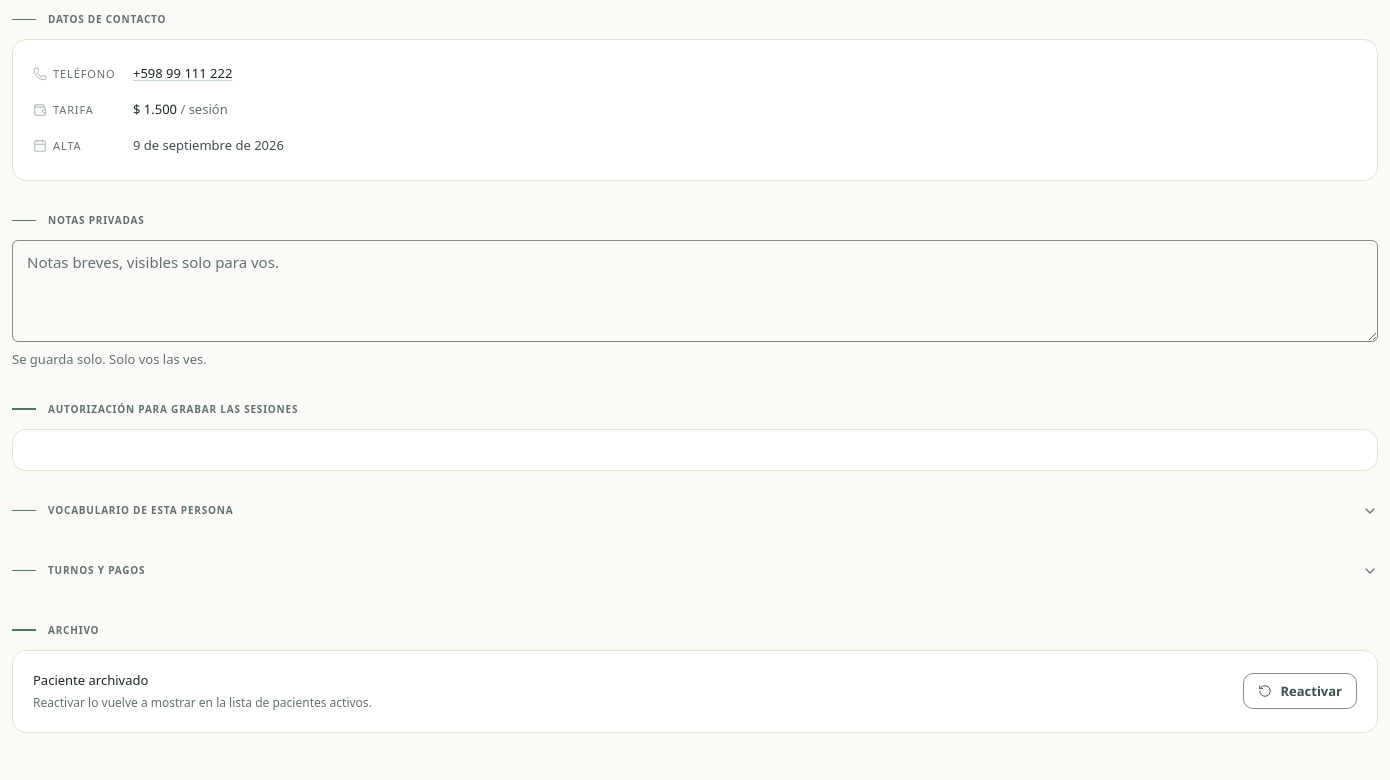
Test: los avisos distinguen un rechazo de una operación confirmada › reactivar desde la ficha: éxito=false
Click the button "Reactivar".
click(1300, 691)  # box x1=1243 y1=673 x2=1357 y2=709
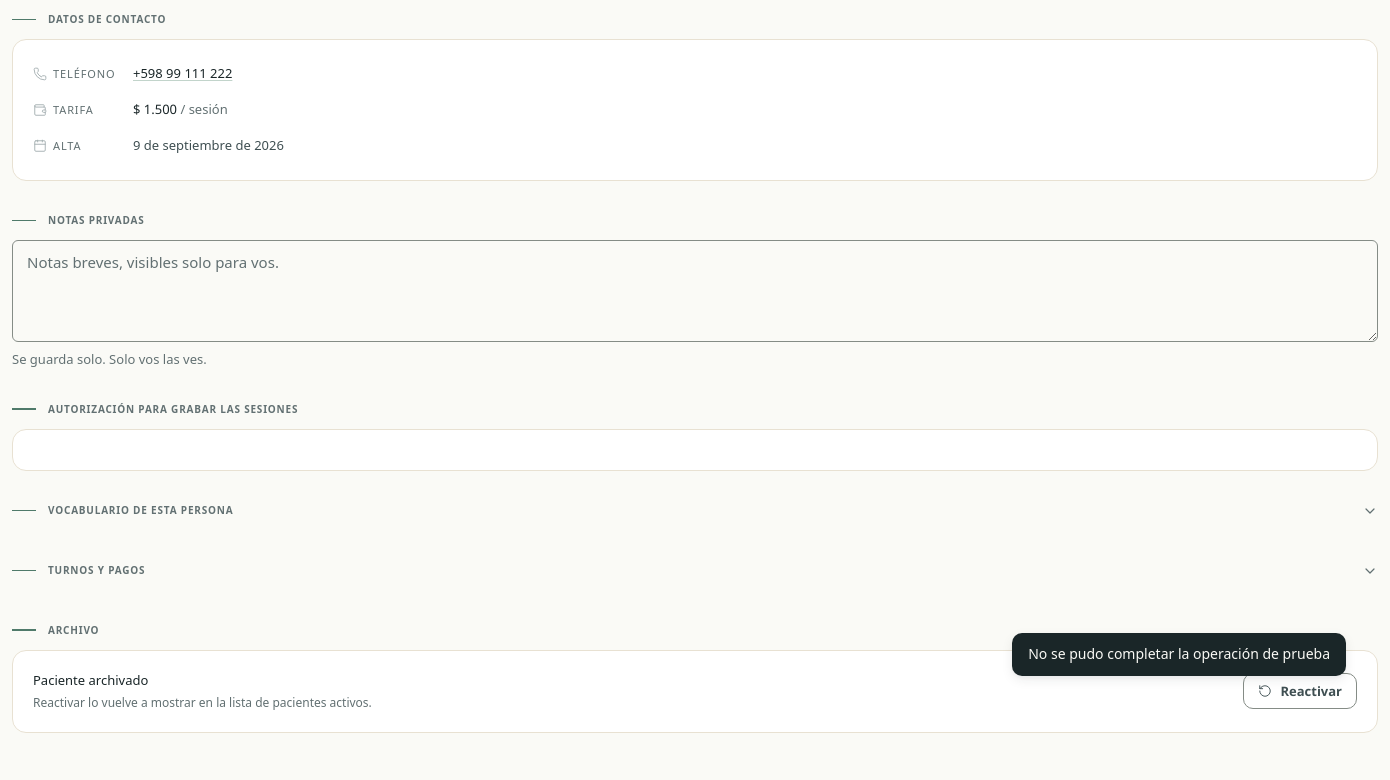
Now the message "No se pudo completar la operación de prueba" is shown, box x1=1012 y1=633 x2=1346 y2=676
